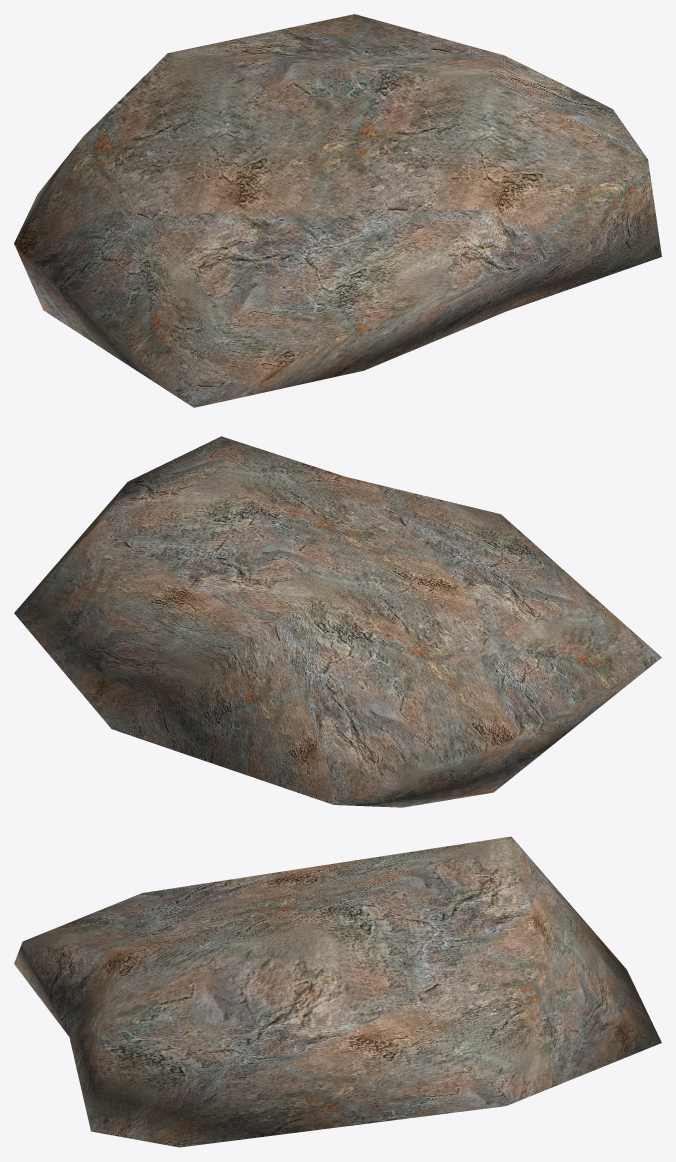
File: rock_forestrock_lg_l1.fbx
3 renders of one model, top to bottom at view 1: azimuth 30°, elevation 25°; view 2: azimuth 150°, elevation 25°; view 3: azimuth 270°, elevation 25°, orthographic. The views are drawn at different scales.
Parts seen in each view (by area): view 1: mesh_node; view 2: mesh_node; view 3: mesh_node.
Boxes of the visible parts, left/top/right/bottom form: mesh_node: left=14, top=14, right=661, bottom=407; mesh_node: left=14, top=436, right=661, bottom=807; mesh_node: left=14, top=836, right=661, bottom=1147.
Bounding box in the file's own units: 1.22 × 0.4733 × 1.27.
